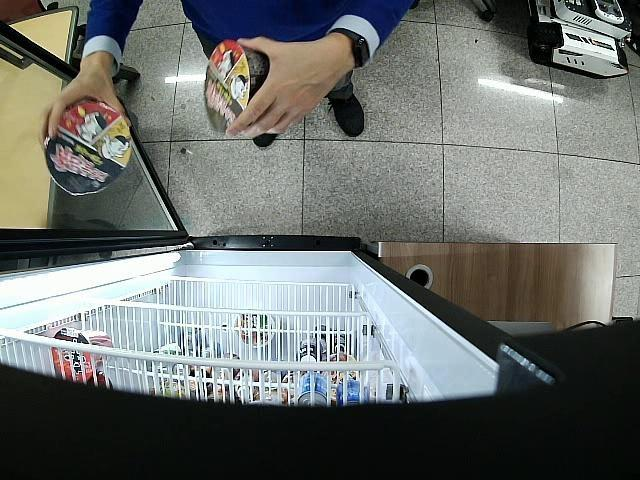07_buldak_L: (44, 100, 130, 195), (204, 40, 270, 134)
